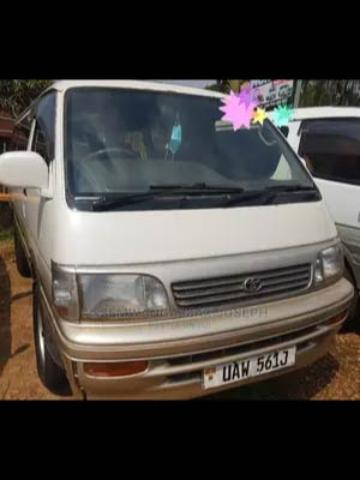van: (0, 81, 350, 397)
